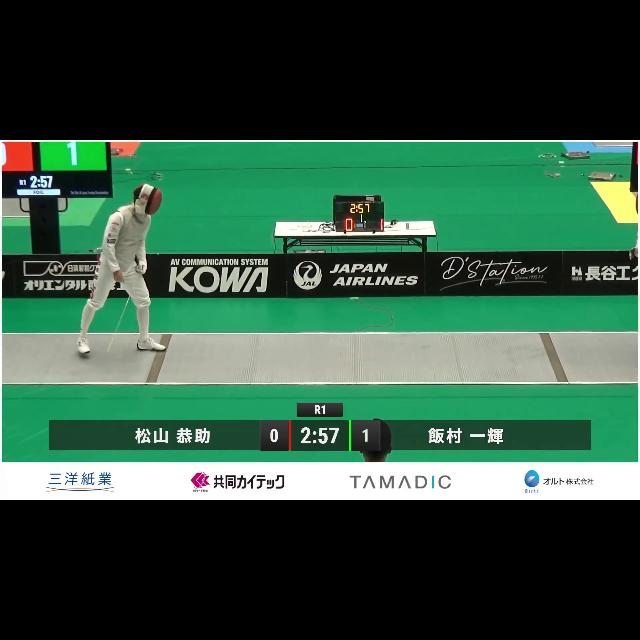blade: (104, 263, 148, 357)
